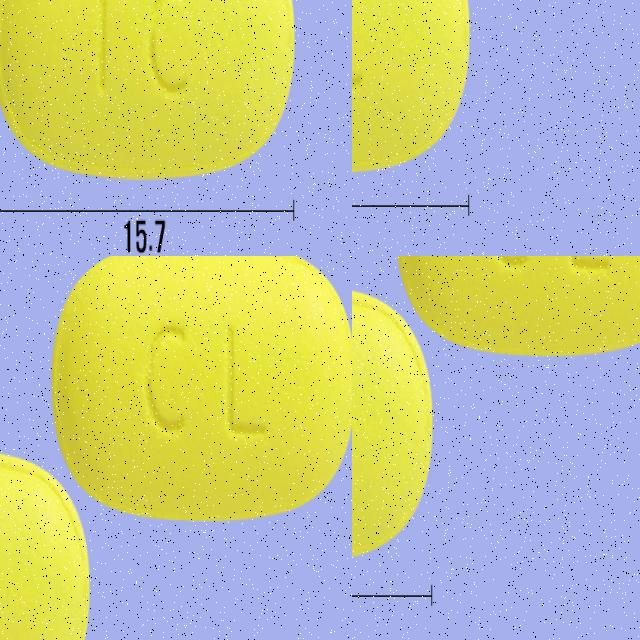Clari - 500mg: (67, 11, 352, 256)
Claric - 500mg: (352, 0, 463, 178)
Clocin: (395, 256, 640, 356), (352, 282, 433, 565)
